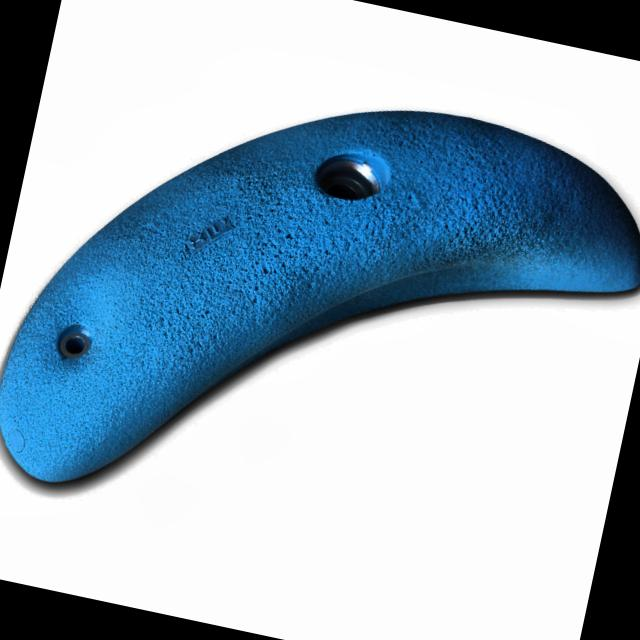Hold: (0, 91, 640, 512)
